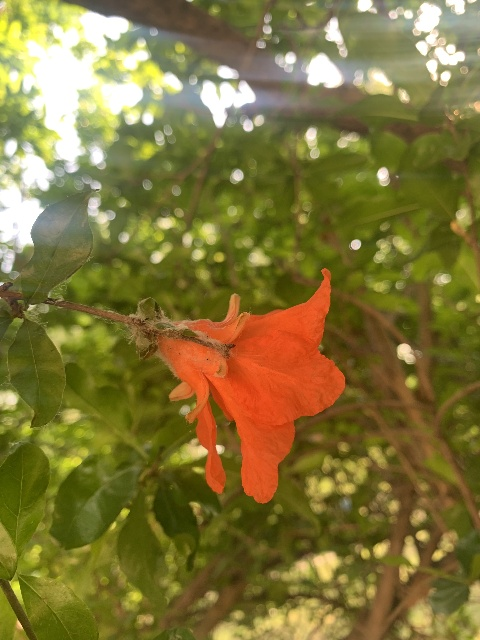flower: (157, 267, 344, 504)
